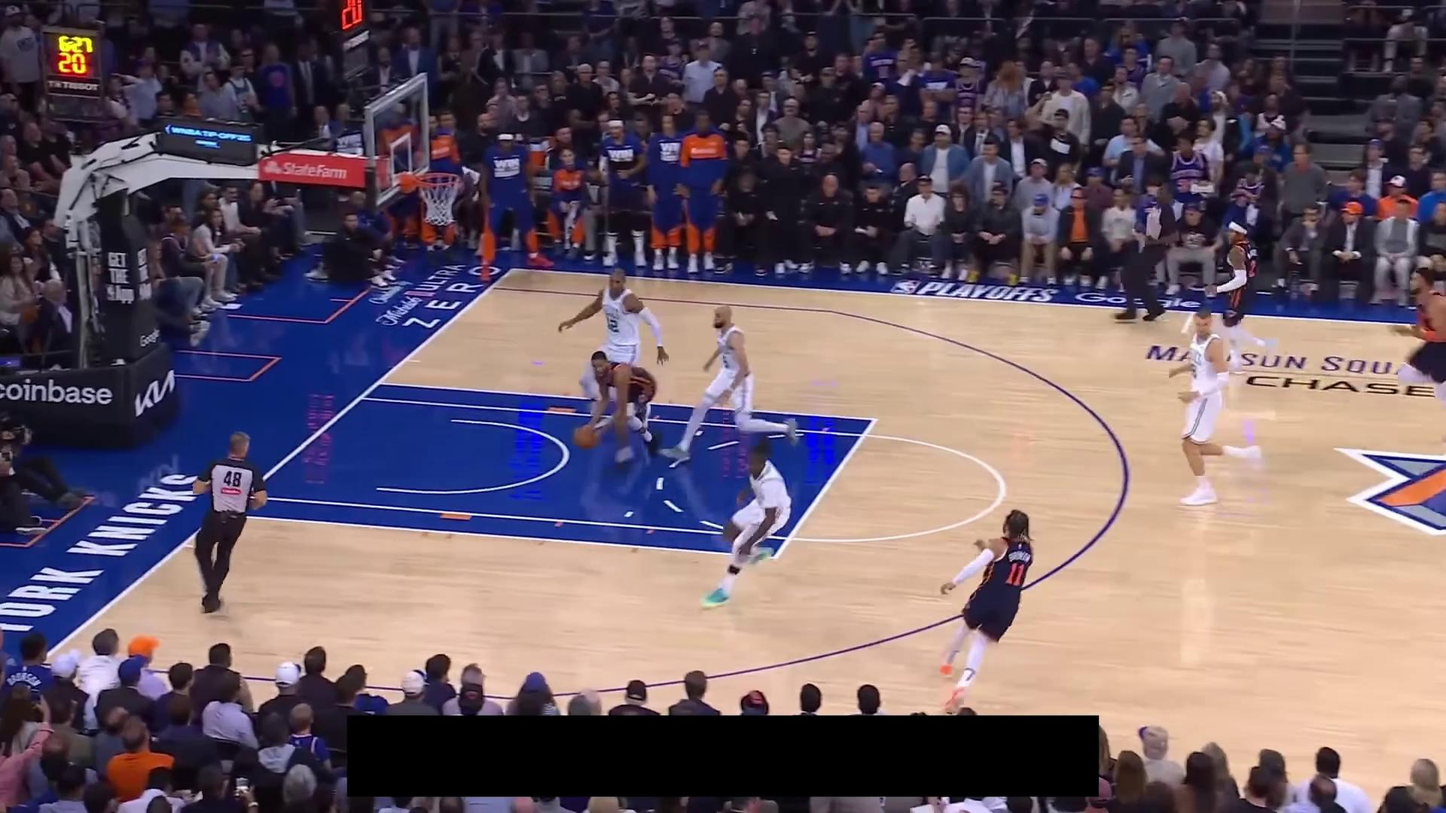ball: (571, 423, 601, 451)
number: (1005, 561, 1027, 586), (607, 317, 620, 333), (1248, 259, 1257, 278), (721, 352, 729, 370)
player: (659, 303, 799, 465), (935, 504, 1036, 714), (1166, 306, 1263, 509), (554, 264, 671, 430), (700, 437, 795, 610), (1200, 221, 1280, 371), (1390, 266, 1446, 452)
player-in-possession: (581, 351, 661, 473)
referee: (190, 430, 269, 615), (1112, 185, 1179, 322)
rim: (416, 170, 461, 187)
